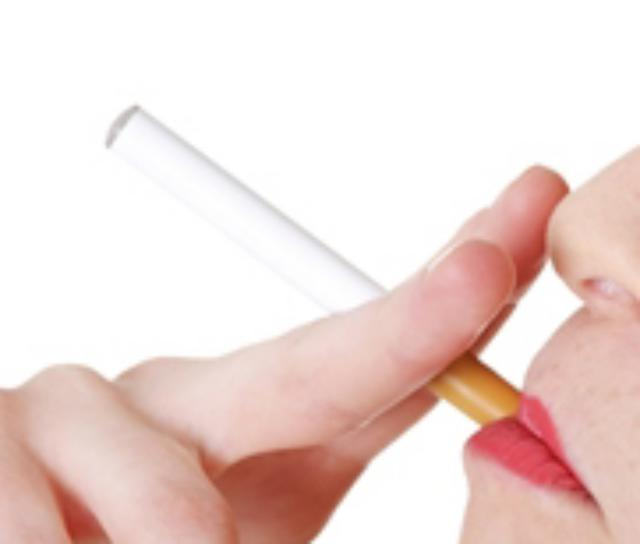Cigarette: (98, 101, 534, 445)
